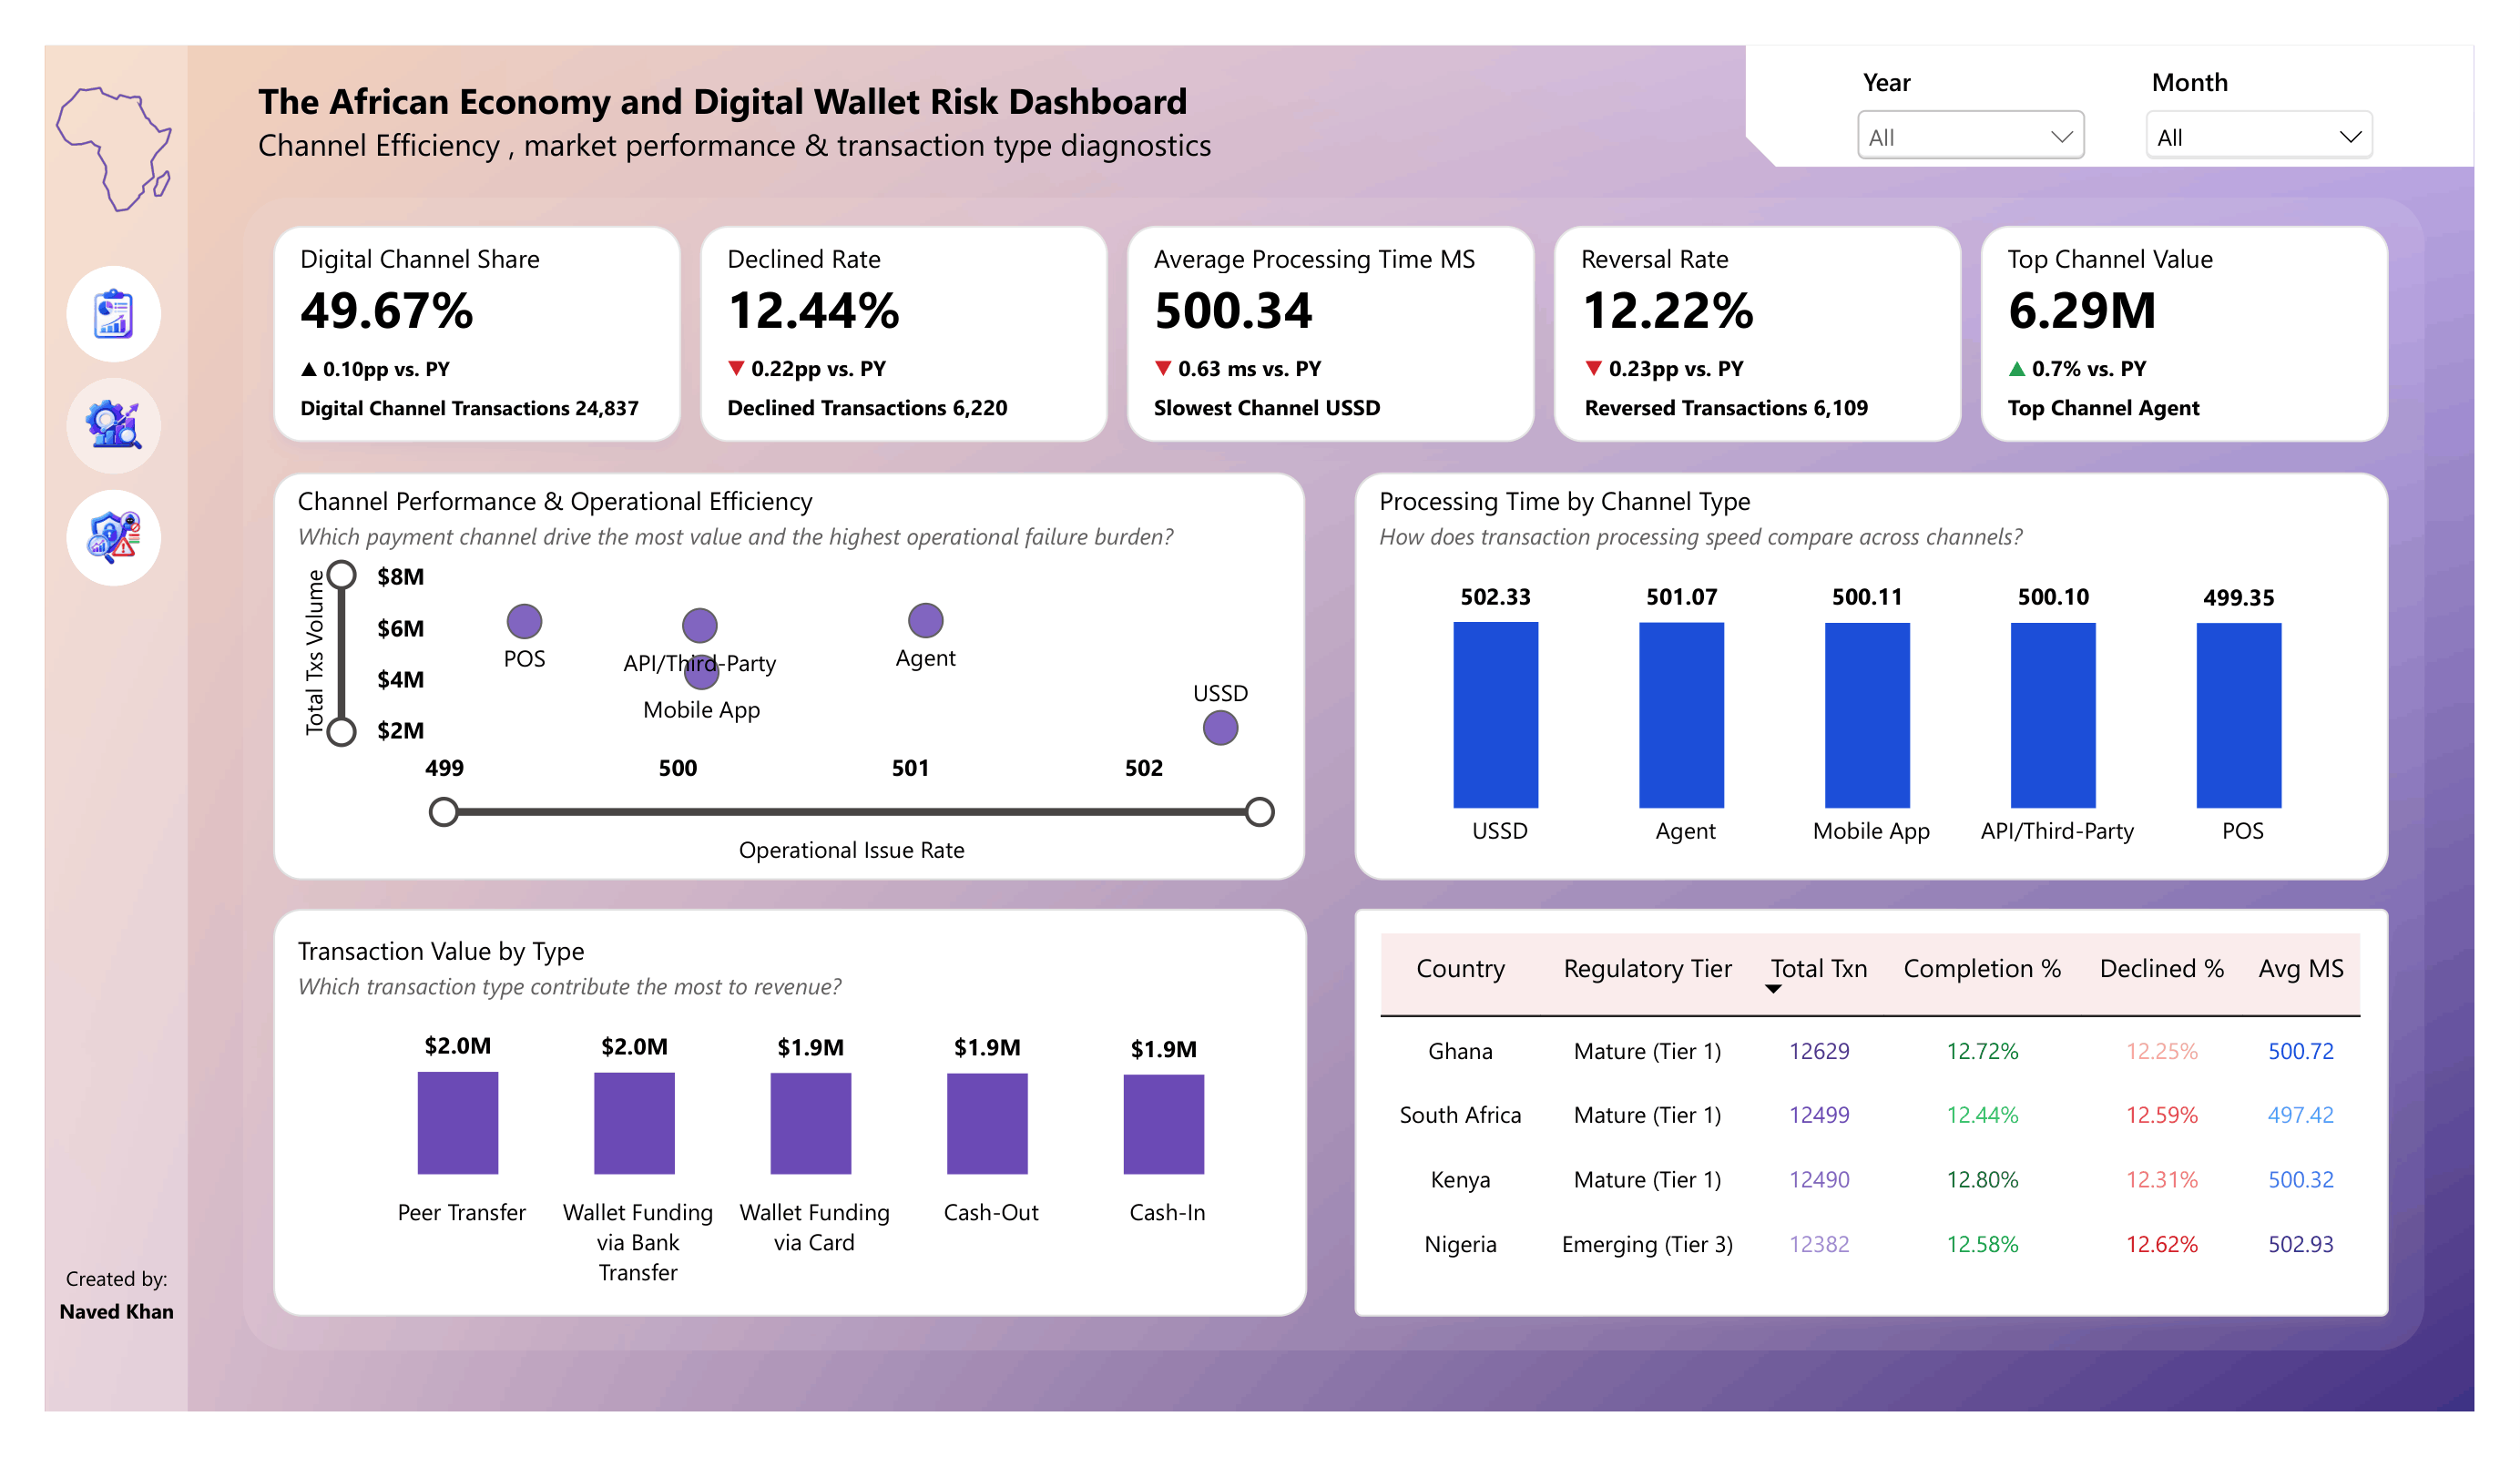

What the dashboard file says about the page in this screenshot:
{"tool":"powerbi","page":{"name":"Operational Analytics","canvas":[1280,720],"ordinal":1},"visuals":[{"type":"shape","box":[0,0,75,720],"z":0},{"type":"shape","box":[104,80,1150,608],"z":1000},{"type":"shape","box":[896,0,384,64],"z":2000},{"type":"cardVisual","fields":{"Data":["merged_table.Average Processing Time MS"]},"box":[570,95,215,114],"z":3000},{"type":"cardVisual","fields":{"Data":["merged_table.Reversal Rate"]},"box":[345,95,215,114],"z":4000},{"type":"cardVisual","fields":{"Data":["merged_table.Reversal Rate"]},"box":[795,95,215,114],"z":5000},{"type":"cardVisual","fields":{"Data":["merged_table.Top Channel Value"]},"box":[1020,95,215,114],"z":6000},{"type":"slicer","fields":{"Values":["DateTable.Year"]},"box":[950,10,130,50],"z":7000},{"type":"slicer","fields":{"Values":["DateTable.Month"]},"box":[1102,10,130,50],"z":8000},{"type":"clusteredColumnChart","title":"Transaction Value by Type","fields":{"Category":["merged_table.transaction_type"],"Y":["Sum(merged_table.amount_usd)"]},"box":[120,455,545,215],"z":9000},{"type":"scatterChart","title":"Channel Performance & Operational Efficiency","fields":{"Category":["merged_table.channel_type"],"X":["Avg(merged_table.processing_time_ms)"],"Y":["Sum(merged_table.amount_usd)"]},"box":[120,225,544,215],"z":10000},{"type":"clusteredColumnChart","title":"Processing Time by Channel Type","fields":{"Category":["merged_table.channel_type"],"Y":["Avg(merged_table.processing_time_ms)"]},"box":[690,225,545,215],"z":11000},{"type":"tableEx","title":"Market Operational Scorecard","fields":{"Values":["merged_table.country","merged_table.regulatory_tier","merged_table.transaction_id","merged_table.Completion %","merged_table.Decline %","Avg(merged_table.processing_time_ms)"]},"box":[690,455,545,215],"z":12000},{"type":"textbox","box":[112,16,528,64],"z":13000},{"type":"pageNavigator","box":[11,116,50,170],"z":14000},{"type":"cardVisual","fields":{"Data":["merged_table.Digital Channel Share"]},"box":[120,95,215,114],"z":15000},{"type":"textbox","box":[0,640,75,45],"z":16000},{"type":"image","box":[12,125,48,34],"z":17000},{"type":"image","box":[12,183,48,34],"z":18000},{"type":"image","box":[11,242,48,34],"z":19000},{"type":"image","box":[4,15,64,80],"z":20000}]}

Visuals, with their boxes on the page's 1280x720 design canvas (x1, y1, x2, y2). These are canvas units, not pixel positions in the 2520x1457 screenshot, which may show the page scaled, cropped or inside an application window:
shape: pyautogui.locateOnScreen(0, 0, 75, 720)
shape: pyautogui.locateOnScreen(104, 80, 1254, 688)
shape: pyautogui.locateOnScreen(896, 0, 1280, 64)
cardVisual - merged_table.Average Processing Time MS: pyautogui.locateOnScreen(570, 95, 785, 209)
cardVisual - merged_table.Reversal Rate: pyautogui.locateOnScreen(345, 95, 560, 209)
cardVisual - merged_table.Reversal Rate: pyautogui.locateOnScreen(795, 95, 1010, 209)
cardVisual - merged_table.Top Channel Value: pyautogui.locateOnScreen(1020, 95, 1235, 209)
slicer - DateTable.Year: pyautogui.locateOnScreen(950, 10, 1080, 60)
slicer - DateTable.Month: pyautogui.locateOnScreen(1102, 10, 1232, 60)
"Transaction Value by Type" clusteredColumnChart: pyautogui.locateOnScreen(120, 455, 665, 670)
"Channel Performance & Operational Efficiency" scatterChart: pyautogui.locateOnScreen(120, 225, 664, 440)
"Processing Time by Channel Type" clusteredColumnChart: pyautogui.locateOnScreen(690, 225, 1235, 440)
"Market Operational Scorecard" tableEx: pyautogui.locateOnScreen(690, 455, 1235, 670)
textbox: pyautogui.locateOnScreen(112, 16, 640, 80)
pageNavigator: pyautogui.locateOnScreen(11, 116, 61, 286)
cardVisual - merged_table.Digital Channel Share: pyautogui.locateOnScreen(120, 95, 335, 209)
textbox: pyautogui.locateOnScreen(0, 640, 75, 685)
image: pyautogui.locateOnScreen(12, 125, 60, 159)
image: pyautogui.locateOnScreen(12, 183, 60, 217)
image: pyautogui.locateOnScreen(11, 242, 59, 276)
image: pyautogui.locateOnScreen(4, 15, 68, 95)
